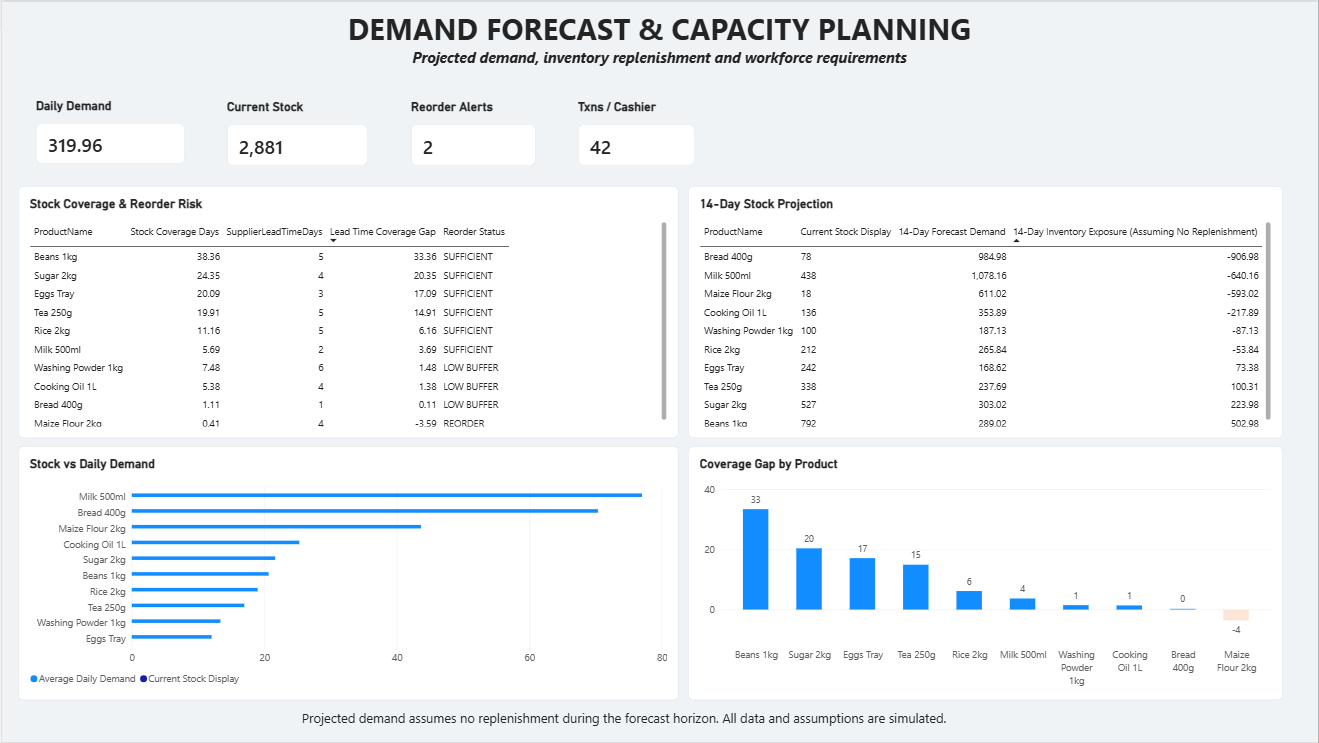

The page's visual inventory and layout, read from the dashboard file:
{"tool":"powerbi","page":{"name":"Inventory Planning","canvas":[1920,1080],"ordinal":1},"visuals":[{"type":"textbox","box":[49.6,8.8,1819.3,96.3],"z":0},{"type":"cardVisual","title":"Daily Demand","fields":{"Data":["Dim_Date.Average Daily Demand"]},"box":[49.6,140.1,217.4,96.3],"z":1000},{"type":"cardVisual","title":"Current Stock","fields":{"Data":["Dim_Date.Current Stock"]},"box":[328.8,141.5,205.7,97],"z":2000},{"type":"cardVisual","title":"Reorder Alerts","fields":{"Data":["Dim_Date.Products Below Reorder Point"]},"box":[596.2,141.5,182.4,97.8],"z":3000},{"type":"cardVisual","title":"Txns / Cashier","fields":{"Data":["Dim_Date.Transactions per Cashier"]},"box":[840.4,141.5,170.7,97.8],"z":4000},{"type":"clusteredBarChart","title":"Stock vs Daily Demand","fields":{"Category":["dim_product.ProductName"],"Y":["Dim_Date.Average Daily Demand","Dim_Date.Current Stock"]},"box":[23.3,647.8,964.4,370.6],"z":5000},{"type":"tableEx","title":"\tStock Coverage & Reorder Risk","fields":{"Values":["dim_product.ProductName","Dim_Date.Stock Coverage Days","dim_product.SupplierLeadTimeDays","Dim_Date.Lead Time Coverage Gap","Dim_Date.Reorder Status"]},"box":[23.3,268.4,964.4,367.7],"z":6000},{"type":"clusteredColumnChart","title":"Coverage Gap by Product","fields":{"Category":["dim_product.ProductName"],"Y":["Dim_Date.Lead Time Coverage Gap"]},"box":[1000.9,647.8,868.1,370.6],"z":7000},{"type":"tableEx","title":"14-Day Stock Projection","fields":{"Values":["dim_product.ProductName","Dim_Date.Current Stock","Dim_Date.14-Day Forecast Demand","Dim_Date.Projected Stock After 14 Days"]},"box":[1000.9,268.4,868.1,367.7],"z":8000},{"type":"textbox","box":[23.3,1031.2,1768.6,47.9],"z":9000}]}

Visuals, with their boxes in screenshot pixels (x1, y1, x2, y2), scaled from the page's 1920x1080 canvas onto the 1319x743 screenshot:
textbox: Rect(34, 6, 1284, 72)
"Daily Demand" cardVisual: Rect(34, 96, 183, 163)
"Current Stock" cardVisual: Rect(226, 97, 367, 164)
"Reorder Alerts" cardVisual: Rect(410, 97, 535, 165)
"Txns / Cashier" cardVisual: Rect(577, 97, 695, 165)
"Stock vs Daily Demand" clusteredBarChart: Rect(16, 446, 679, 701)
"	Stock Coverage & Reorder Risk" tableEx: Rect(16, 185, 679, 438)
"Coverage Gap by Product" clusteredColumnChart: Rect(688, 446, 1284, 701)
"14-Day Stock Projection" tableEx: Rect(688, 185, 1284, 438)
textbox: Rect(16, 709, 1231, 742)
